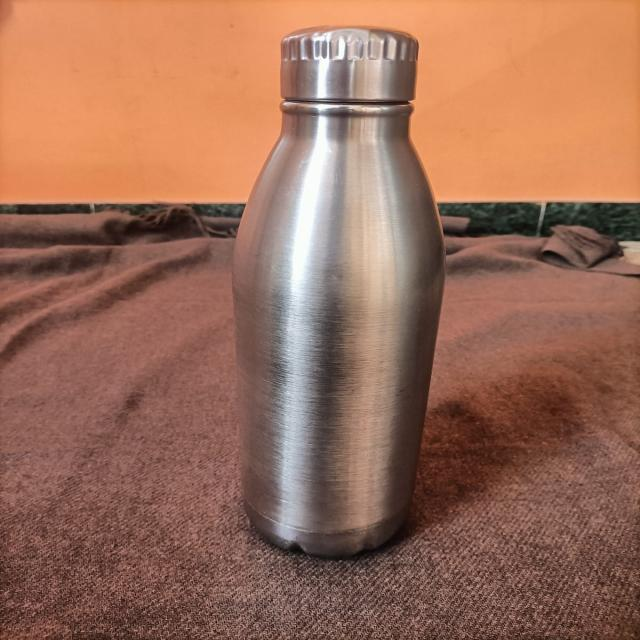bottle: (162, 13, 502, 584)
